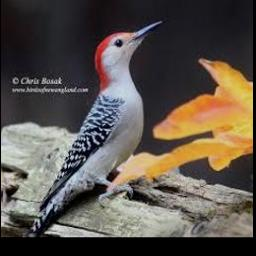Woodpecker: (24, 20, 162, 237)
